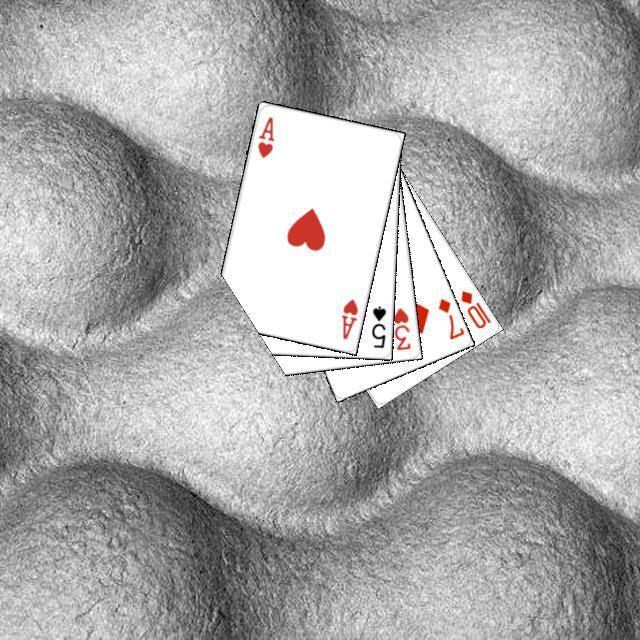10d: (456, 285, 493, 330)
3h: (389, 303, 412, 352)
5s: (366, 301, 388, 349)
7d: (433, 293, 465, 341)
Ah: (337, 294, 360, 341), (253, 112, 276, 159)
